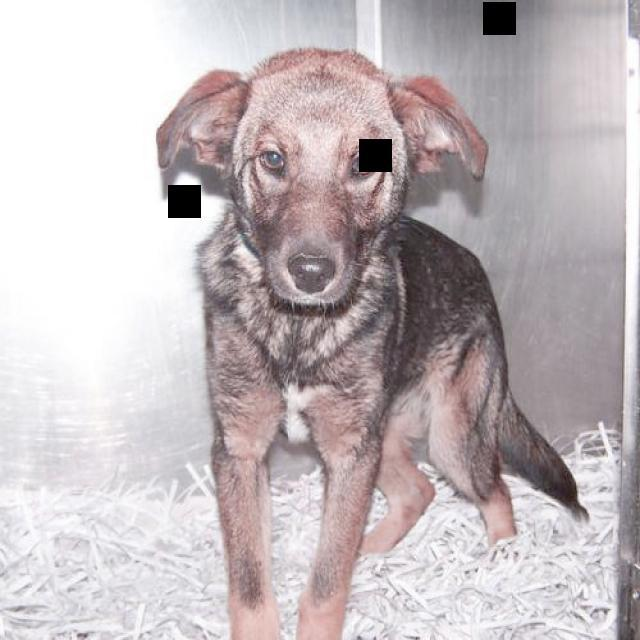puppy-dog: (153, 49, 592, 640)
